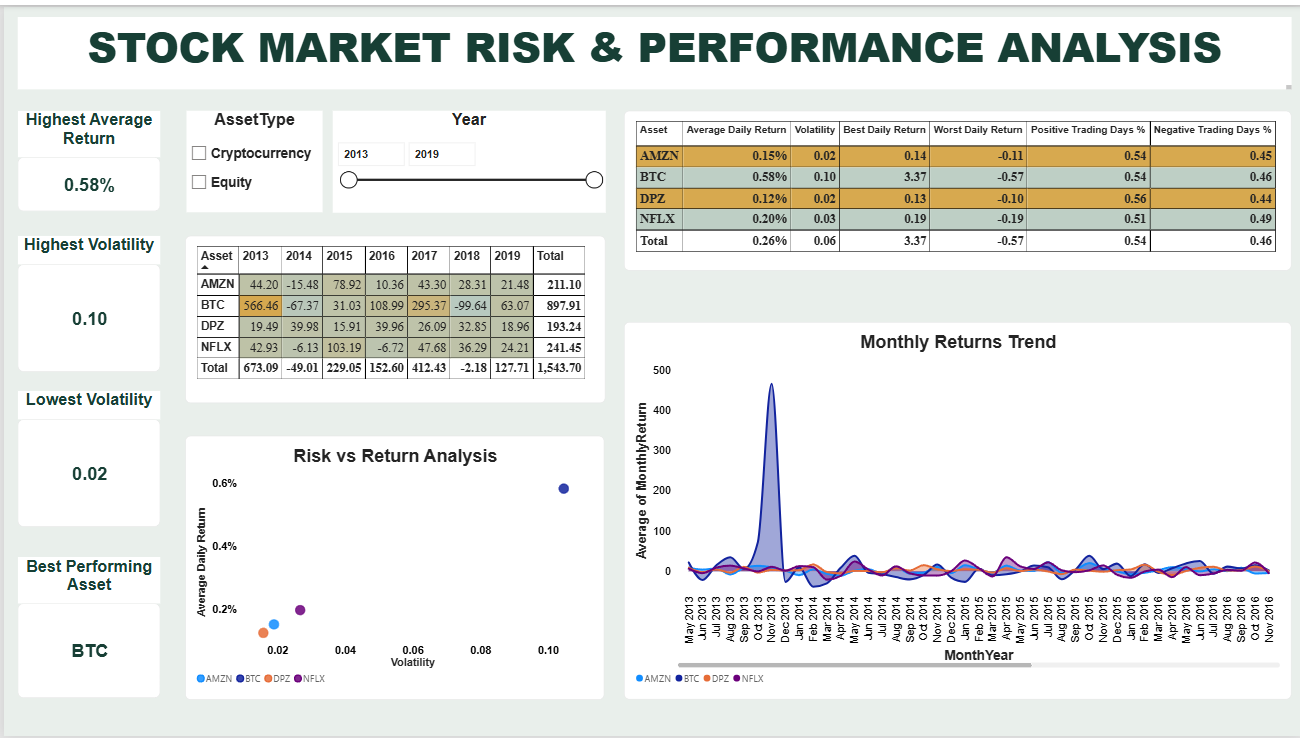

Layout of this report page (visuals, bound fields, positions):
{"tool":"powerbi","page":{"name":"Asset Performance","canvas":[1920,1080],"ordinal":1},"visuals":[{"type":"tableEx","fields":{"Values":["Dim_Asset.Asset","Fact_Stock_Prices.Average Daily Return","Fact_Stock_Prices.Volatility","Fact_Stock_Prices.Best Daily Return","Fact_Stock_Prices.Worst Daily Return","Fact_Stock_Prices.Positive Trading Days %","Fact_Stock_Prices.Negative Trading Days %"]},"box":[918.5,153.7,988.9,237],"z":0},{"type":"scatterChart","title":"Risk vs Return Analysis","fields":{"Category":["Dim_Asset.Asset"],"Series":["Dim_Asset.Asset"],"X":["Fact_Stock_Prices.Volatility"],"Y":["Fact_Stock_Prices.Average Daily Return"]},"box":[269.1,634.8,621,391],"z":1000},{"type":"areaChart","title":"Monthly Returns Trend","fields":{"Category":["Dim_Month.MonthYear"],"Series":["Fact_Monthly_Performance.Asset"],"Y":["Avg(Fact_Monthly_Performance.MonthlyReturn)"]},"box":[918.5,466.7,988.9,559.3],"z":2000},{"type":"pivotTable","fields":{"Columns":["Dim_Month.Year"],"Rows":["Dim_Asset.Asset"],"Values":["Sum(Fact_Monthly_Performance.MonthlyReturn)"]},"box":[268.5,338.9,622.2,248.1],"z":3000},{"type":"cardVisual","title":"Lowest Volatility","fields":{"Data":["Dim_Asset.Lowest Volatility"]},"box":[20.2,568.7,211.6,202.4],"z":4000},{"type":"cardVisual","title":"Highest Volatility","fields":{"Data":["Dim_Asset.Highest Volatility"]},"box":[20.7,338.1,211.6,202.4],"z":5000},{"type":"cardVisual","title":"Best Performing Asset","fields":{"Data":["Dim_Asset.Best Performing Asset"]},"box":[20.2,815.3,211.6,209.3],"z":6000},{"type":"cardVisual","title":"Highest Average Return","fields":{"Data":["Dim_Asset.Highest Average Return"]},"box":[20.7,154.1,211.6,149.5],"z":7000},{"type":"slicer","title":"AssetType","fields":{"Values":["Dim_AssetType.AssetType"]},"box":[269.6,154.4,201.7,150.3],"z":8000},{"type":"slicer","title":"Year","fields":{"Values":["Dim_Month.Year"]},"box":[487.8,154.4,403.4,150.3],"z":9000},{"type":"textbox","title":"STOCK MARKET RISK & PERFORMANCE ANALYSIS","box":[20.4,14.8,1887,107.4],"z":10000}]}

Visuals, with their boxes in screenshot pixels (x1, y1, x2, y2), scaled from the page's 1920x1080 canvas onto the 1300x738 screenshot:
tableEx - Dim_Asset.Asset x Fact_Stock_Prices.Average Daily Return: bbox=[622, 105, 1291, 267]
"Risk vs Return Analysis" scatterChart: bbox=[182, 434, 603, 701]
"Monthly Returns Trend" areaChart: bbox=[622, 319, 1291, 701]
pivotTable - Dim_Month.Year x Dim_Asset.Asset: bbox=[182, 232, 603, 401]
"Lowest Volatility" cardVisual: bbox=[14, 389, 157, 527]
"Highest Volatility" cardVisual: bbox=[14, 231, 157, 369]
"Best Performing Asset" cardVisual: bbox=[14, 557, 157, 700]
"Highest Average Return" cardVisual: bbox=[14, 105, 157, 207]
"AssetType" slicer: bbox=[183, 106, 319, 208]
"Year" slicer: bbox=[330, 106, 603, 208]
"STOCK MARKET RISK & PERFORMANCE ANALYSIS" textbox: bbox=[14, 10, 1291, 84]
